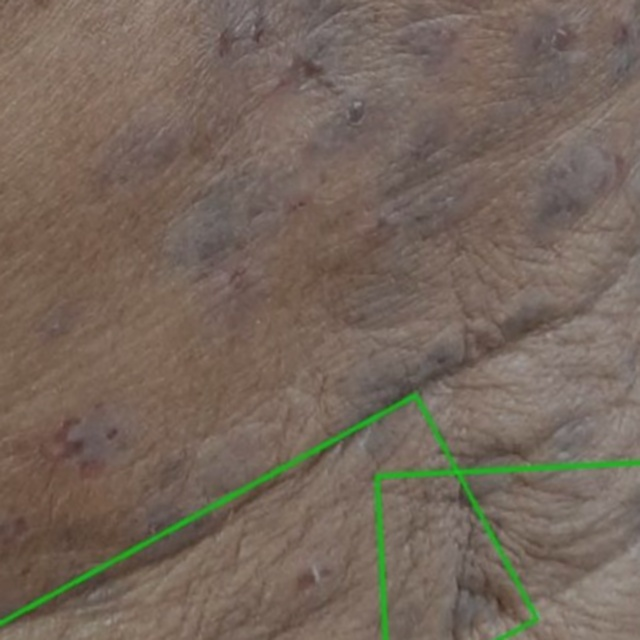Contact Dermatitis: (0, 396, 543, 639)
